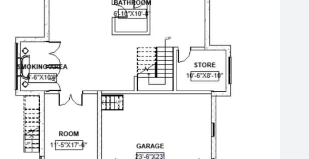door: (176, 47, 191, 62)
double door: (52, 89, 88, 114)
window: (203, 117, 224, 140)
